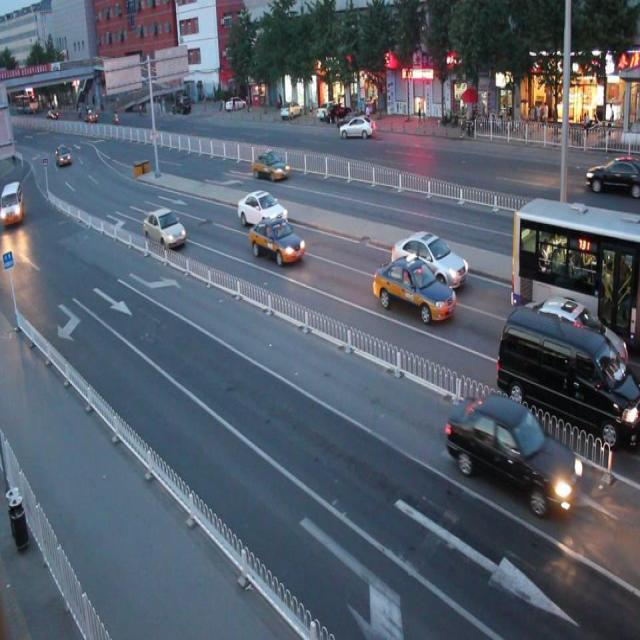BigCar: (512, 191, 640, 326)
car: (505, 307, 640, 452), (453, 387, 577, 511), (375, 252, 456, 332), (396, 225, 467, 282), (252, 217, 300, 267), (590, 154, 640, 200), (145, 206, 186, 257), (0, 172, 29, 234), (240, 193, 280, 231), (254, 146, 290, 182), (340, 109, 375, 140), (54, 140, 76, 174), (176, 90, 200, 116), (282, 94, 300, 125), (225, 94, 248, 117)
